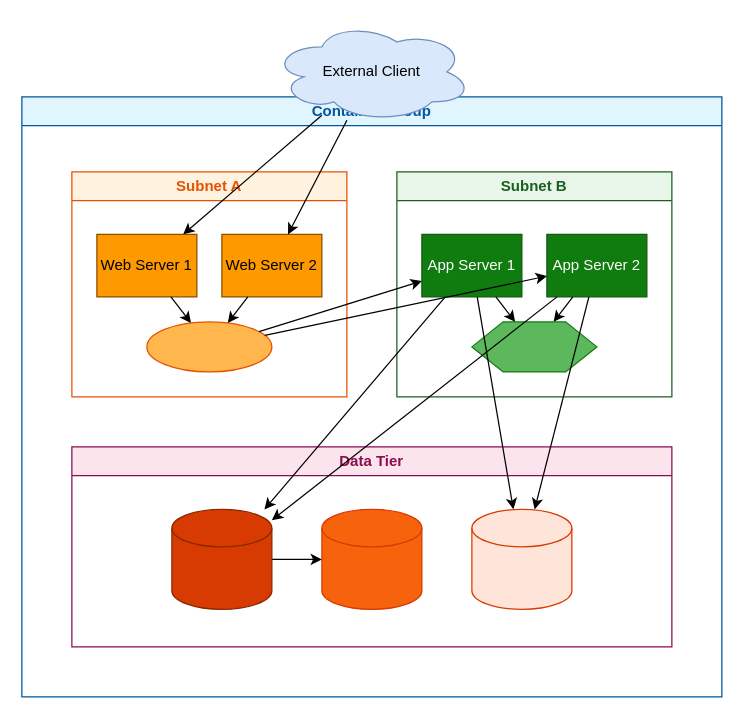
Image size: 744x719. Some labels were removed from this diagram. Each missing label, with the centre of its shape:
Cache: the point at 521,558
Load Balancer: the point at 209,346
Message Queue: the point at 534,346
Primary DB: the point at 221,558
Replica DB: the point at 371,558
